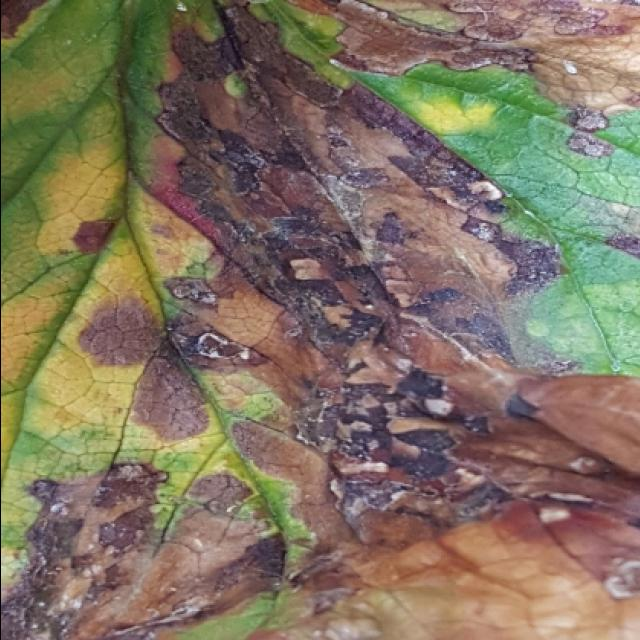Angular Leafspot: (2, 0, 640, 638)
